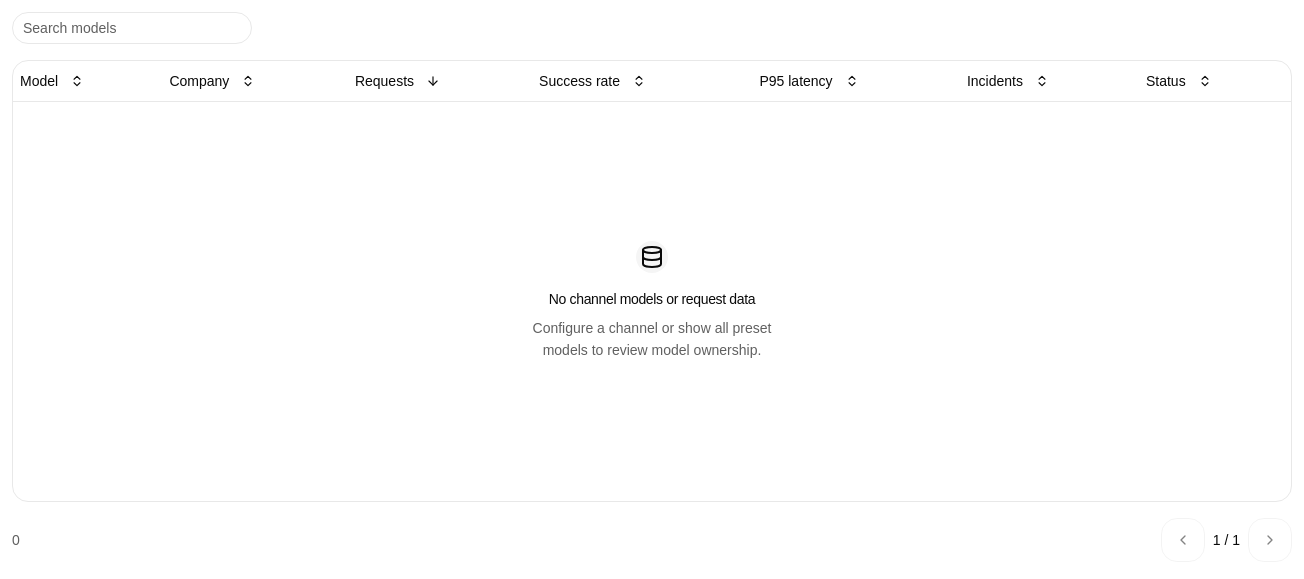
Scenario: performance model table › distinguishes a scope with no channel traffic from a search without matches
Expected: the text "No channel models or request data" is shown, x1=549 y1=288 x2=755 y2=308
Expected: the text "Configure a channel or show all preset models to review model ownership." is shown, x1=532 y1=320 x2=771 y2=358
Type "missing-model" into the field labelled "Search models" at [132, 28], box x1=12 y1=12 x2=252 y2=44
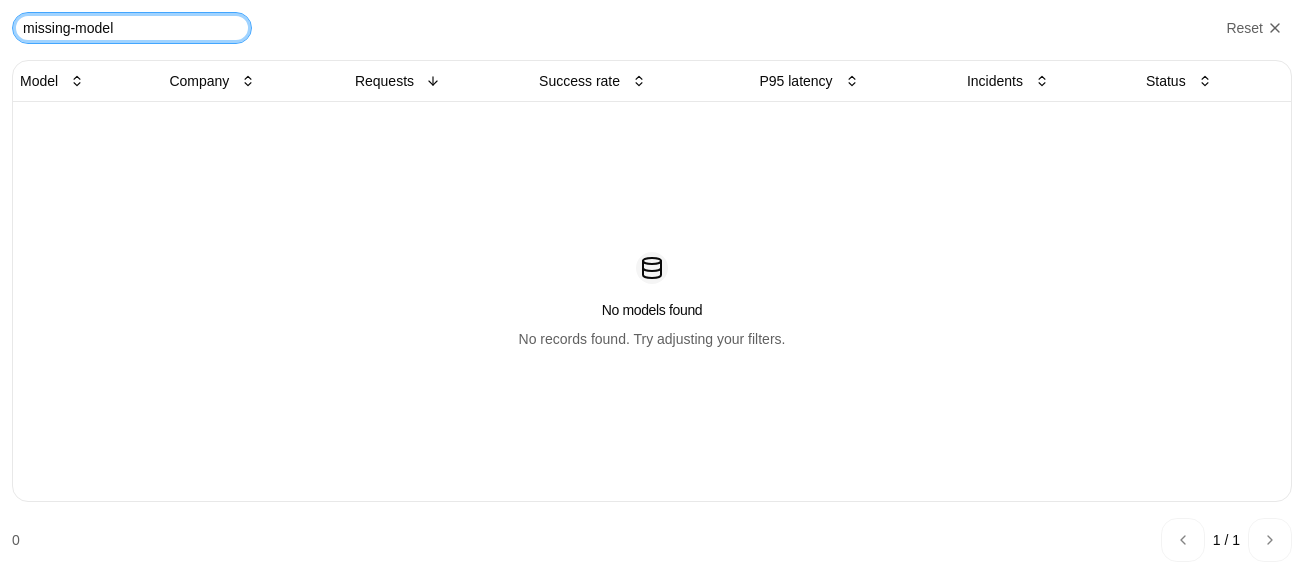
Expected: the text "No models found" is shown, x1=602 y1=300 x2=702 y2=320
